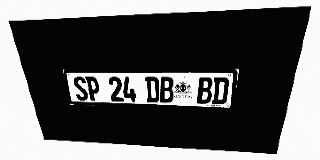2: (108, 77, 124, 102)
4: (121, 77, 137, 102)
B: (197, 77, 213, 104), (159, 77, 174, 103)
D: (212, 77, 230, 104), (145, 77, 160, 103)
P: (85, 76, 101, 101)
S: (72, 76, 89, 101)
